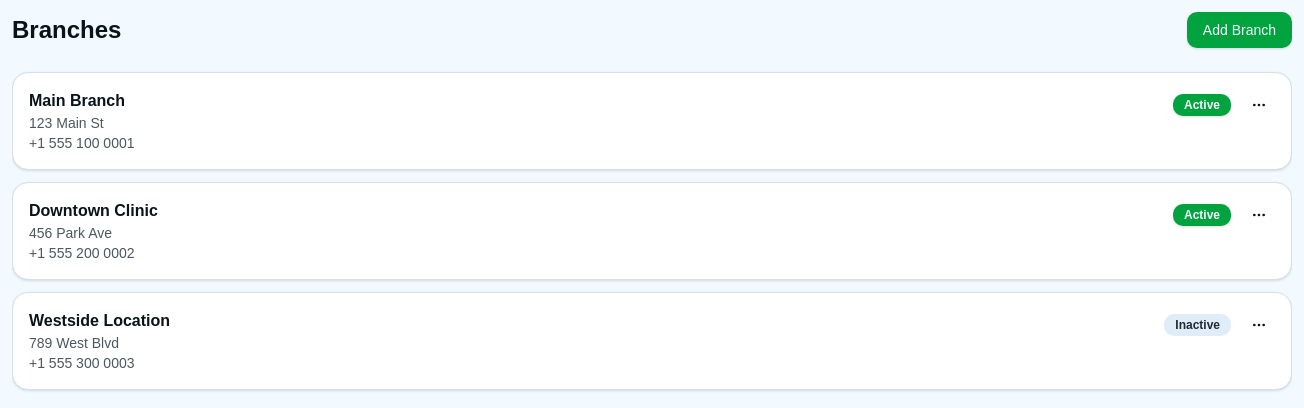
BranchesPage › shows deactivate confirmation when Deactivate clicked via dropdown
The image size is (1304, 408).
Expected: the text "Main Branch" is shown, top-left (29, 89), bottom-right (134, 113)
Click the button without text in the row of "Main Branch" at coordinates (1259, 105), box top-left (1243, 89), bottom-right (1275, 121)
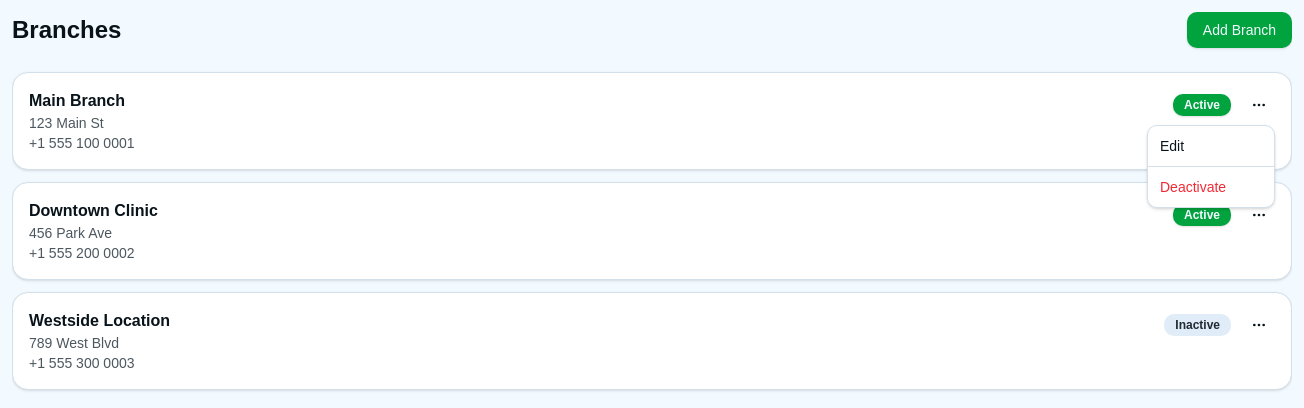
Expected: the menu item "Deactivate" is shown
Click the menu item "Deactivate" at coordinates (1193, 187), box top-left (1160, 179), bottom-right (1226, 195)
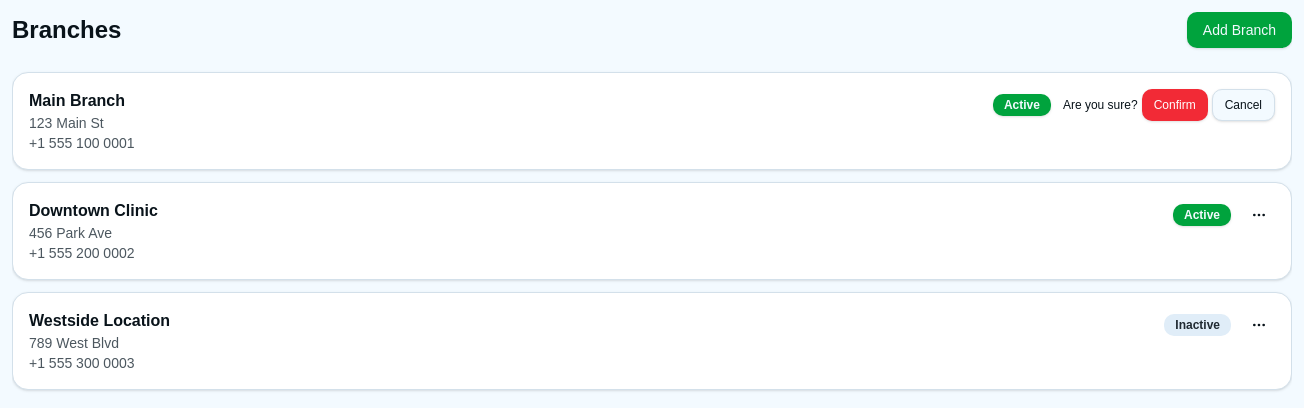
Expected: the text "Are you sure?" is shown, top-left (1063, 97), bottom-right (1138, 113)
